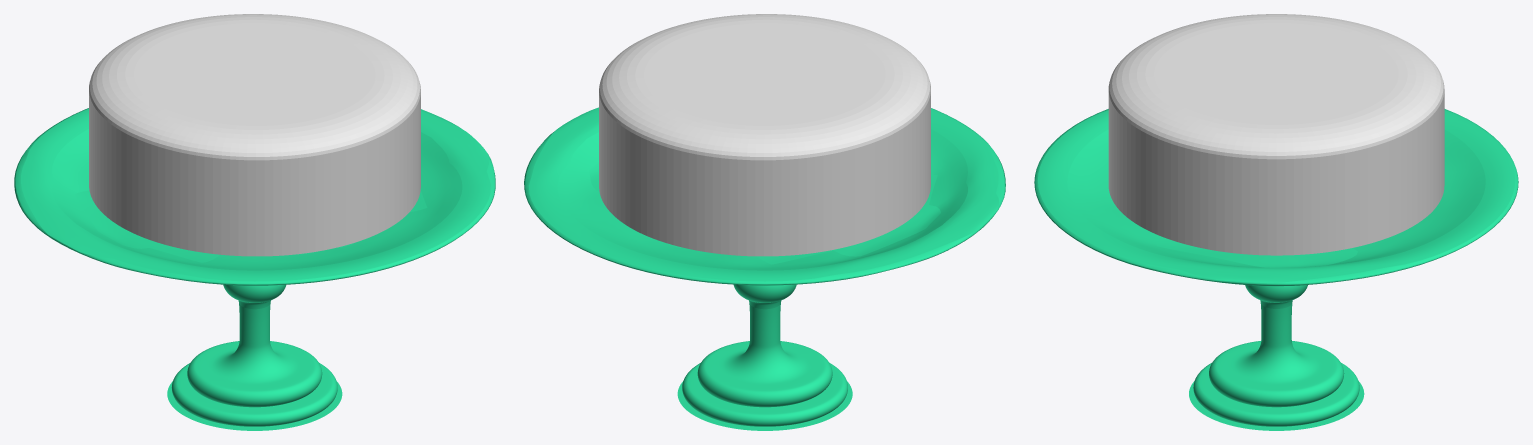
Rendered from cake.glb.
The picture shows the model from 3 angles, left to right: view 1: azimuth 30°, elevation 25°; view 2: azimuth 150°, elevation 25°; view 3: azimuth 270°, elevation 25°; orthographic projection.
Visible parts, largest first — view 1: Cylinder, stand; view 2: Cylinder, stand; view 3: Cylinder, stand.
Part boxes in pixels (x1,y1,x2,y2): Cylinder: (89, 14, 420, 256); stand: (14, 108, 495, 430); Cylinder: (599, 14, 930, 256); stand: (524, 107, 1005, 430); Cylinder: (1108, 14, 1444, 255); stand: (1034, 109, 1518, 430).
Bounding box in the file's own units: 5.8 × 4.21 × 5.78.
